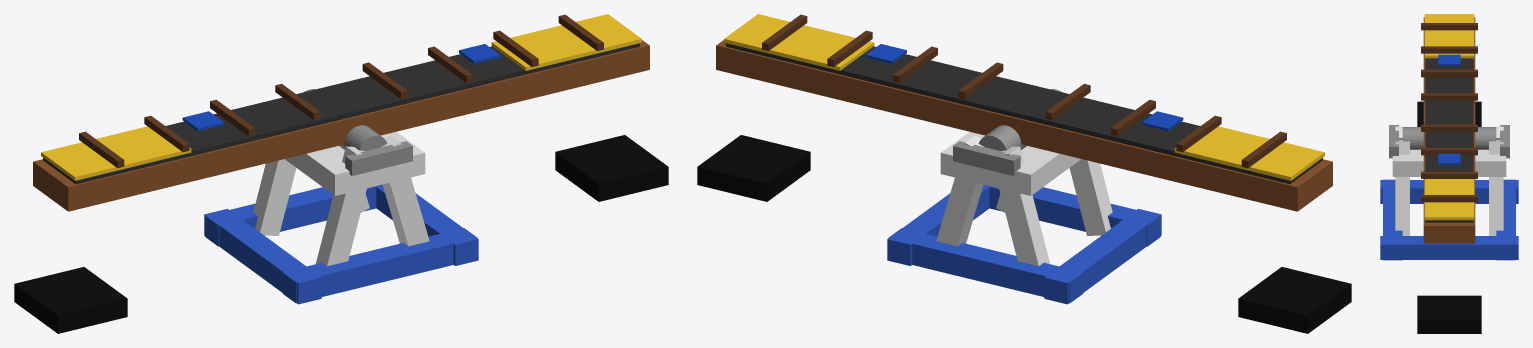
The model's file is dog_teeter_totter.obj.
The picture shows the model from 3 angles, left to right: view 1: azimuth 30°, elevation 25°; view 2: azimuth 150°, elevation 25°; view 3: azimuth 270°, elevation 25°; orthographic projection. The views are drawn at different scales.
Visible parts, largest first — view 1: animated_plank_main, animated_plank_grip_surface, right_low_stop_pad, left_low_stop_pad, base_foot_back, base_cross_left, contact_zone_left, contact_zone_right, top_cradle, base_foot_front, support_leg_left_z0.38, support_leg_left_z-0.38 (+14 smaller); view 2: animated_plank_main, animated_plank_grip_surface, right_low_stop_pad, left_low_stop_pad, base_foot_front, base_cross_left, contact_zone_left, contact_zone_right, top_cradle, base_foot_back, support_leg_left_z-0.38, support_leg_left_z0.38 (+14 smaller); view 3: animated_plank_grip_surface, right_low_stop_pad, base_cross_right, animated_plank_main, contact_zone_right, contact_zone_left, top_cradle, base_foot_front, base_foot_back, support_leg_right_z-0.38, support_leg_right_z0.38, base_cross_left (+14 smaller).
Boxes of the visible parts, x1,y1,x2,y2 form: animated_plank_main: [33, 40, 649, 211]; animated_plank_grip_surface: [43, 43, 639, 184]; right_low_stop_pad: [555, 135, 668, 201]; left_low_stop_pad: [14, 267, 127, 333]; base_foot_back: [282, 228, 477, 303]; base_cross_left: [204, 209, 321, 304]; contact_zone_left: [41, 126, 191, 180]; contact_zone_right: [491, 14, 641, 70]; top_cradle: [285, 131, 425, 195]; base_foot_front: [205, 185, 381, 246]; support_leg_left_z0.38: [316, 146, 366, 266]; support_leg_left_z-0.38: [253, 159, 296, 235]; animated_plank_main: [716, 40, 1332, 211]; animated_plank_grip_surface: [726, 43, 1322, 184]; right_low_stop_pad: [697, 135, 810, 201]; left_low_stop_pad: [1238, 267, 1351, 333]; base_foot_front: [888, 228, 1083, 303]; base_cross_left: [1044, 209, 1161, 304]; contact_zone_left: [1174, 126, 1324, 180]; contact_zone_right: [724, 14, 874, 70]; top_cradle: [940, 131, 1080, 195]; base_foot_back: [985, 185, 1160, 246]; support_leg_left_z-0.38: [999, 146, 1049, 266]; support_leg_left_z0.38: [1069, 159, 1112, 235]; animated_plank_grip_surface: [1425, 58, 1473, 222]; right_low_stop_pad: [1417, 295, 1481, 333]; base_cross_right: [1380, 236, 1518, 259]; animated_plank_main: [1423, 17, 1475, 243]; contact_zone_right: [1424, 179, 1474, 220]; contact_zone_left: [1424, 14, 1474, 58]; top_cradle: [1392, 149, 1506, 176]; base_foot_front: [1496, 179, 1515, 260]; base_foot_back: [1383, 179, 1402, 260]; support_leg_right_z-0.38: [1489, 140, 1503, 235]; support_leg_right_z0.38: [1395, 140, 1409, 235]; base_cross_left: [1380, 180, 1518, 203].
Bounding box in the file's own units: 4.2 × 1.06 × 1.12.
